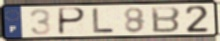2: (184, 4, 211, 34)
3: (29, 8, 52, 36)
8: (123, 7, 146, 35)
B: (150, 5, 182, 34)
L: (92, 8, 116, 35)
P: (57, 7, 88, 36)
